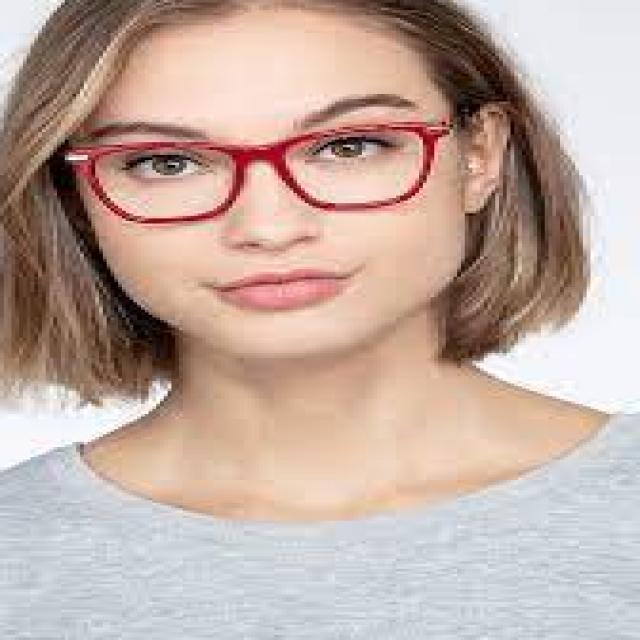Glasses: (62, 109, 461, 229)
